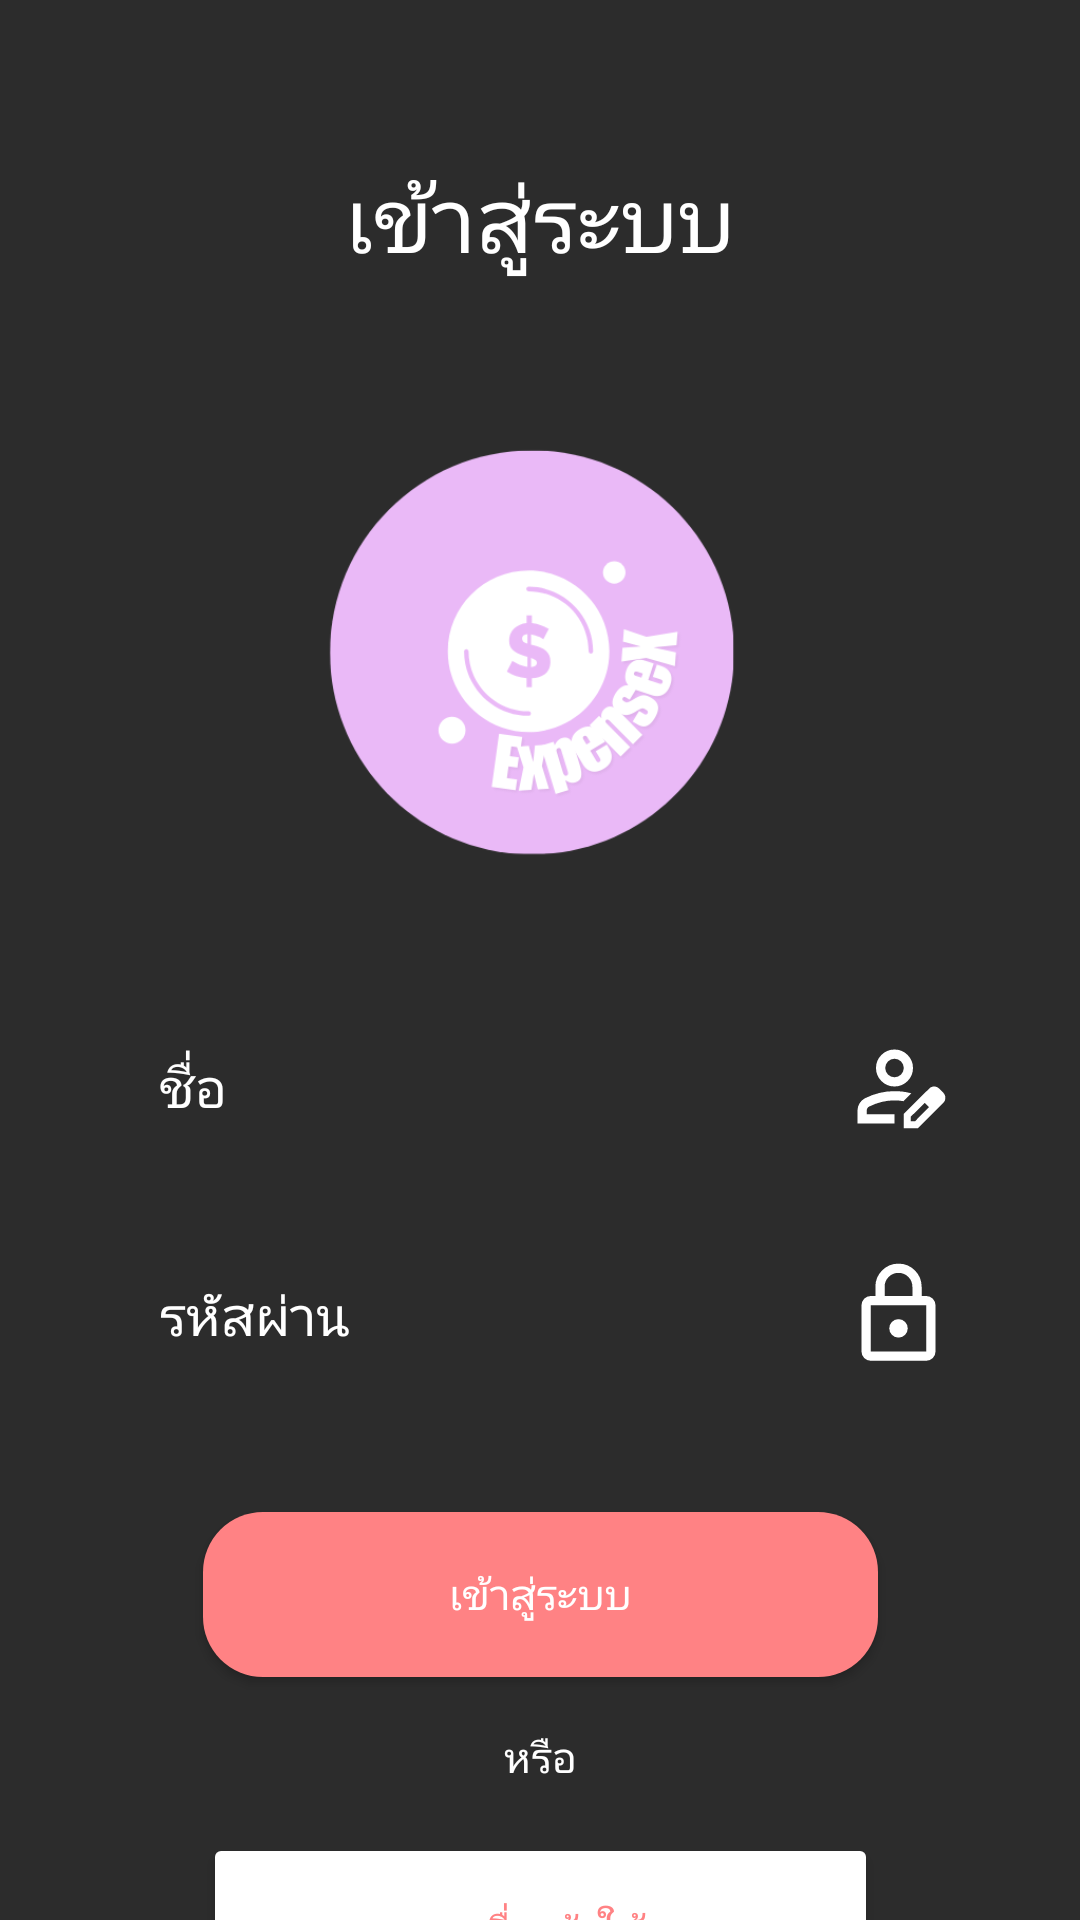

Icon click points for this 1080*1920 phone screenshot, format point (x, y):
Lock Icon: point (898, 1312)
User Icon: point (901, 1089)
